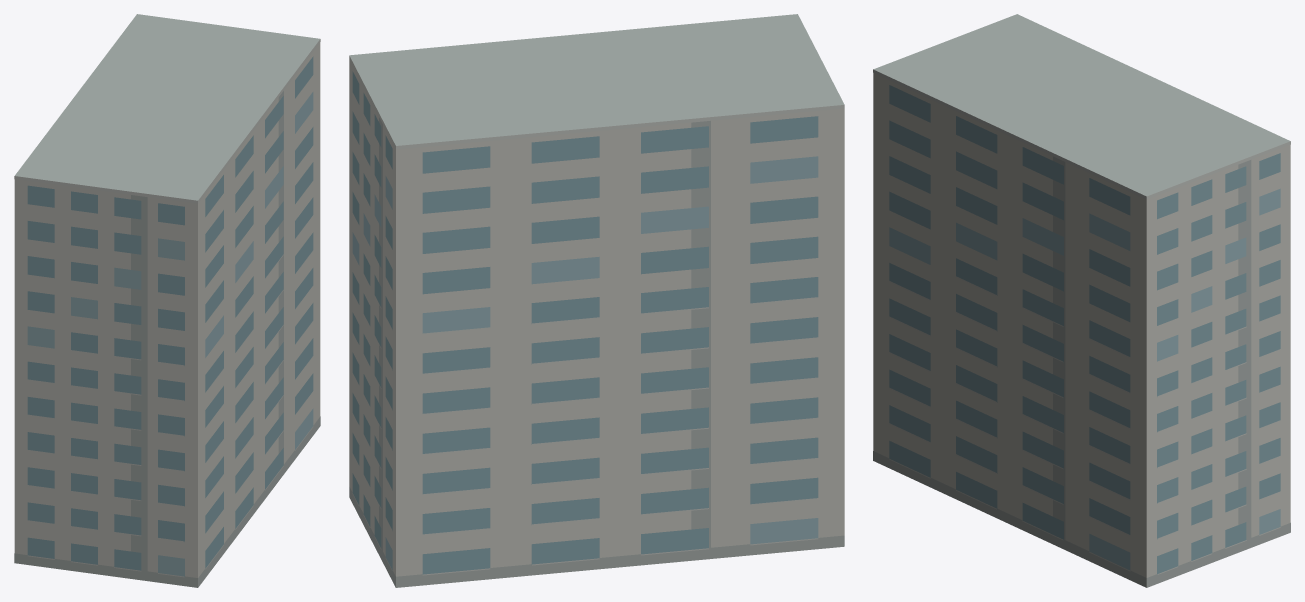
File: residential-fc32c731-9e1a-4ac0-b1ff-50a22e15e19a.glb
3 renders of one model, left to right at view 1: azimuth 30°, elevation 25°; view 2: azimuth 150°, elevation 25°; view 3: azimuth 270°, elevation 25°, orthographic. The views are drawn at different scales.
Parts seen in each view (by area): view 1: residential-fc32c731-9e1a-4ac0-b1ff-50a22e15e19a.tmp; view 2: residential-fc32c731-9e1a-4ac0-b1ff-50a22e15e19a.tmp; view 3: residential-fc32c731-9e1a-4ac0-b1ff-50a22e15e19a.tmp.
Part boxes in pixels (x1,y1,x2,y2): residential-fc32c731-9e1a-4ac0-b1ff-50a22e15e19a.tmp: (14, 14, 320, 587); residential-fc32c731-9e1a-4ac0-b1ff-50a22e15e19a.tmp: (349, 14, 844, 587); residential-fc32c731-9e1a-4ac0-b1ff-50a22e15e19a.tmp: (873, 14, 1290, 587).
Bounding box in the file's own units: 29.01 × 29 × 28.05.
